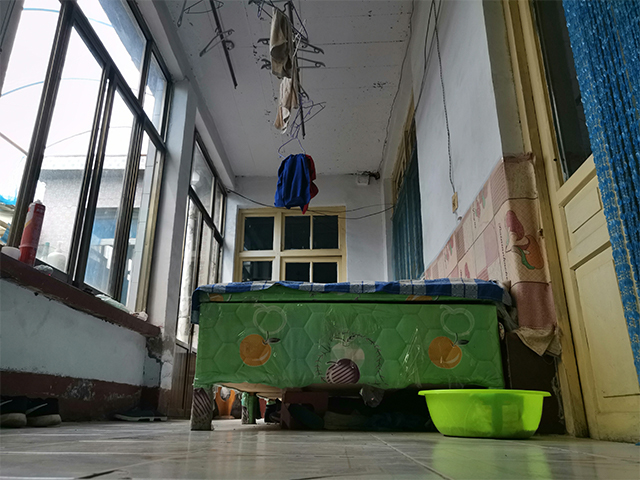bed: (188, 278, 508, 432)
